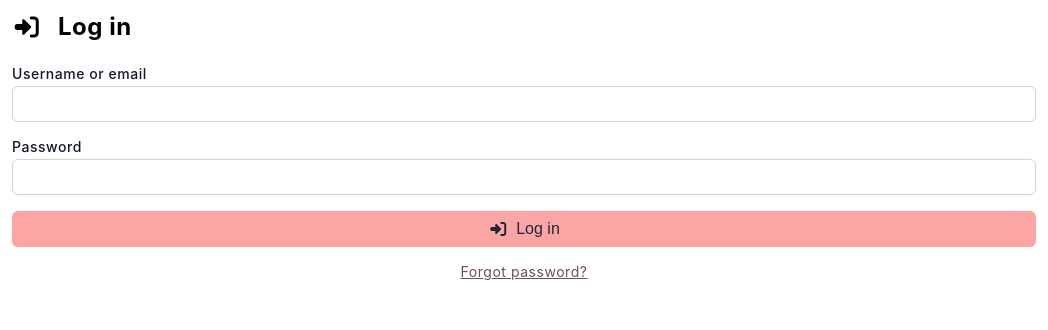
it: LoginView › shows the generic failure message on invalid credentials
Type "alice" into the field labelled "Username or email".
click(524, 104); type("alice")  # box [12, 86, 1036, 122]
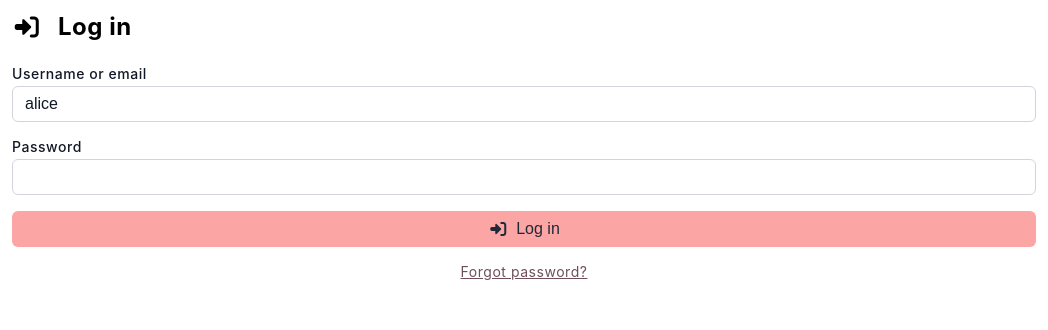
Type "wrong" into the password field labelled "Password".
click(524, 177); type("wrong")  # box [12, 159, 1036, 195]
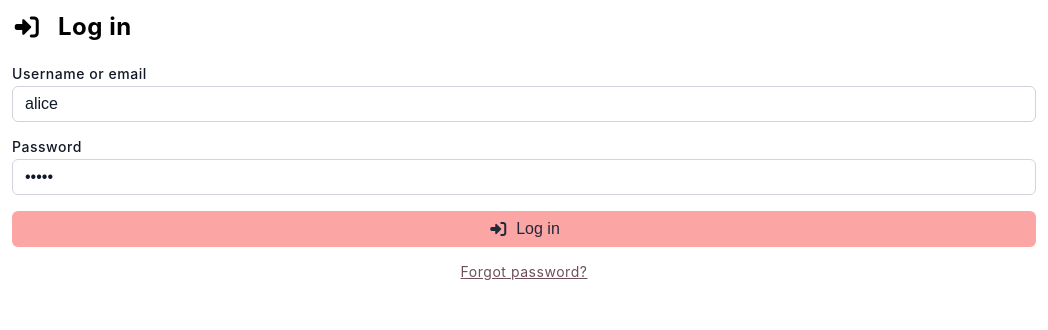
Submit the form
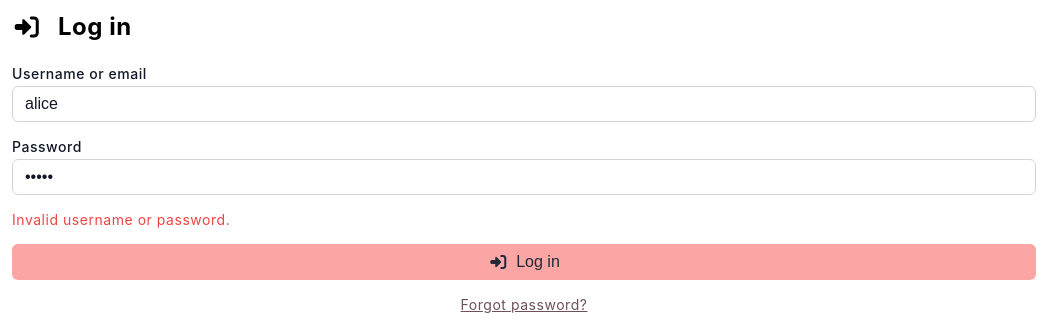
Check: the form shows "Invalid username or password.", box [12, 211, 230, 228]
